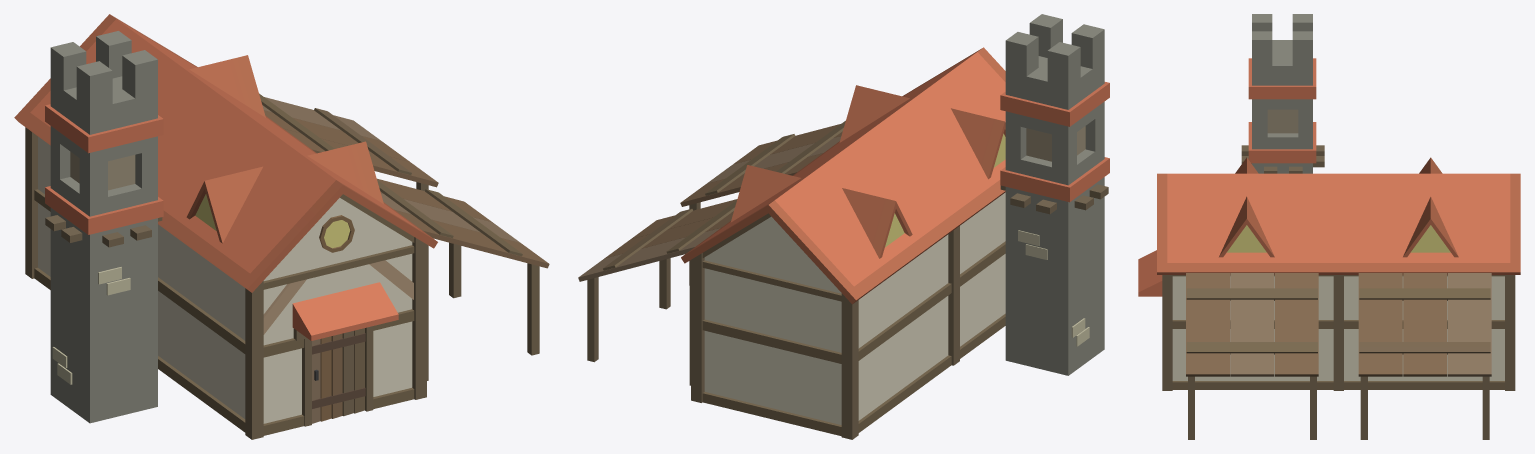
Rendered from House_3.fbx.
3 views of the same model, side by side, from view 1: azimuth 30°, elevation 25°; view 2: azimuth 150°, elevation 25°; view 3: azimuth 270°, elevation 25° (orthographic). The views are drawn at different scales.
Visible parts, largest first — view 1: House_3; view 2: House_3; view 3: House_3.
Part boxes in pixels (left/top/right/bottom): House_3: left=14, top=14, right=549, bottom=439; House_3: left=578, top=14, right=1109, bottom=439; House_3: left=1138, top=14, right=1520, bottom=439.
Bounding box in the file's own units: 176 × 136 × 175.
1 material, 1 textured.
